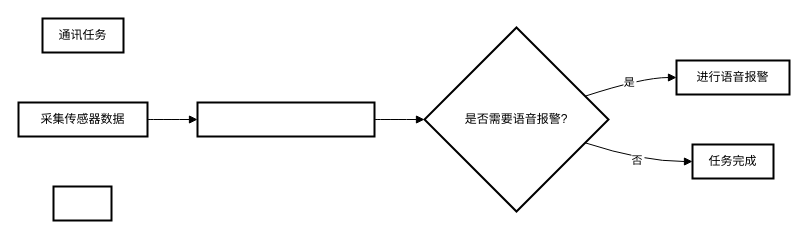
Some shapes in this 807 by 238 pixel diagram are drawn without their labels. The shapes that lost their labels are listed below. From the top down, each one's centre as x and y in pixels, then its label:
At (285,119): "传输数据到本地服务器".
At (82,203): "input,".
